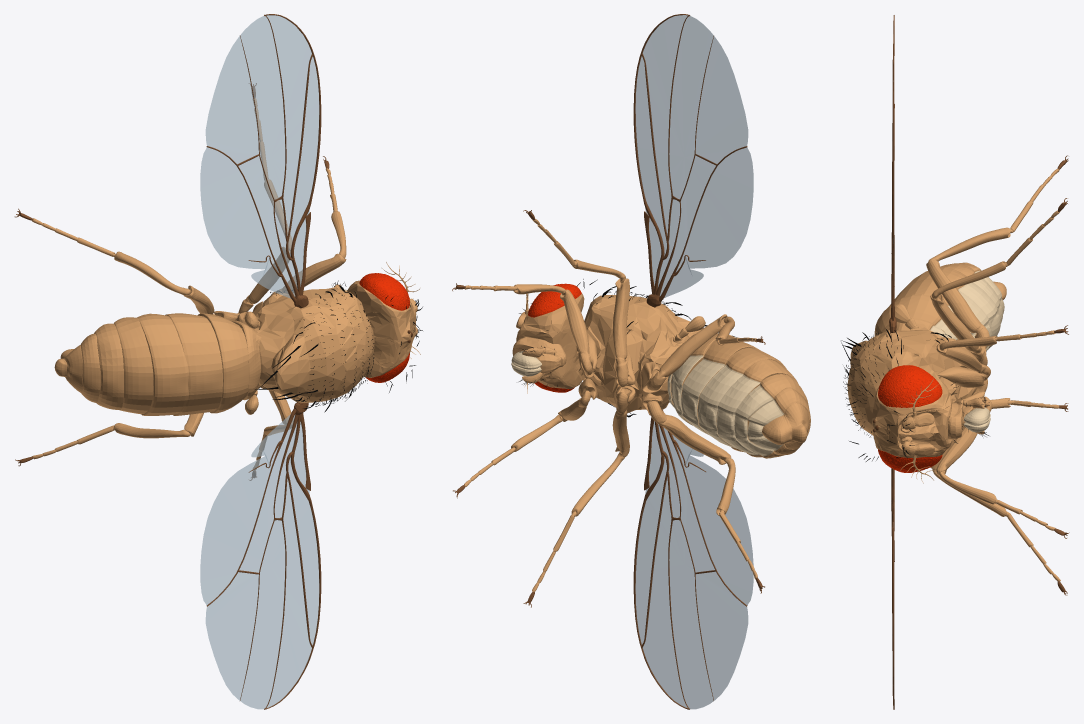
File: flybody-2b19f4083255.glb
3 views of the same model, side by side, from view 1: azimuth 30°, elevation 25°; view 2: azimuth 150°, elevation 25°; view 3: azimuth 270°, elevation 25° (orthographic).
Parts seen in each view (by area): view 1: mesh_wing_left_membrane, mesh_wing_right_membrane, mesh_thorax, mesh_abdomen_3, mesh_wing_right_brown, mesh_abdomen_4, mesh_wing_left_brown, mesh_head, mesh_abdomen_5, mesh_abdomen_2, mesh_abdomen_6, mesh_head_red (+8 smaller); view 2: mesh_wing_left_membrane, mesh_wing_right_membrane, mesh_thorax, mesh_wing_left_brown, mesh_wing_right_brown, mesh_head, mesh_abdomen_4_lower, mesh_abdomen_5_lower, mesh_abdomen_8, mesh_femur_T3_right, mesh_femur_T2_left, mesh_abdomen_3_lower (+14 smaller); view 3: mesh_thorax, mesh_head, mesh_head_red, mesh_femur_T3_left, mesh_abdomen_2, mesh_wing_left_brown, mesh_femur_T2_left, mesh_abdomen_4_lower, mesh_femur_T1_right, mesh_tibia_T3_left, mesh_wing_right_brown, mesh_rostrum (+12 smaller).
Part boxes in pixels (<box>): mesh_wing_left_membrane: <box>200,15,319,298</box>; mesh_wing_right_membrane: <box>200,414,319,709</box>; mesh_thorax: <box>237,287,374,402</box>; mesh_abdomen_3: <box>165,313,222,415</box>; mesh_wing_right_brown: <box>206,402,321,709</box>; mesh_abdomen_4: <box>137,313,188,415</box>; mesh_wing_left_brown: <box>206,14,321,308</box>; mesh_head: <box>347,280,416,377</box>; mesh_abdomen_5: <box>113,317,153,414</box>; mesh_abdomen_2: <box>198,313,248,413</box>; mesh_abdomen_6: <box>94,323,123,409</box>; mesh_head_red: <box>359,273,409,382</box>; mesh_wing_left_membrane: <box>635,15,753,297</box>; mesh_wing_right_membrane: <box>635,421,753,709</box>; mesh_thorax: <box>576,295,702,412</box>; mesh_wing_left_brown: <box>633,14,747,307</box>; mesh_wing_right_brown: <box>633,410,747,709</box>; mesh_head: <box>516,293,584,388</box>; mesh_abdomen_4_lower: <box>697,365,743,448</box>; mesh_abdomen_5_lower: <box>716,374,760,455</box>; mesh_abdomen_8: <box>762,403,809,449</box>; mesh_femur_T3_right: <box>647,401,731,464</box>; mesh_femur_T2_left: <box>613,278,629,387</box>; mesh_abdomen_3_lower: <box>681,358,724,435</box>; mesh_thorax: <box>847,327,972,435</box>; mesh_head: <box>872,374,952,457</box>; mesh_head_red: <box>878,365,942,472</box>; mesh_femur_T3_left: <box>926,259,989,348</box>; mesh_abdomen_2: <box>874,294,947,336</box>; mesh_wing_left_brown: <box>889,15,896,332</box>; mesh_femur_T2_left: <box>930,294,987,365</box>; mesh_abdomen_4_lower: <box>958,282,1000,349</box>; mesh_femur_T1_right: <box>936,396,992,474</box>; mesh_tibia_T3_left: <box>928,227,1010,261</box>; mesh_wing_right_brown: <box>891,468,894,709</box>; mesh_rostrum: <box>948,398,984,439</box>.
Bounding box in the file's own units: 0.3012 × 0.6116 × 0.1844.
